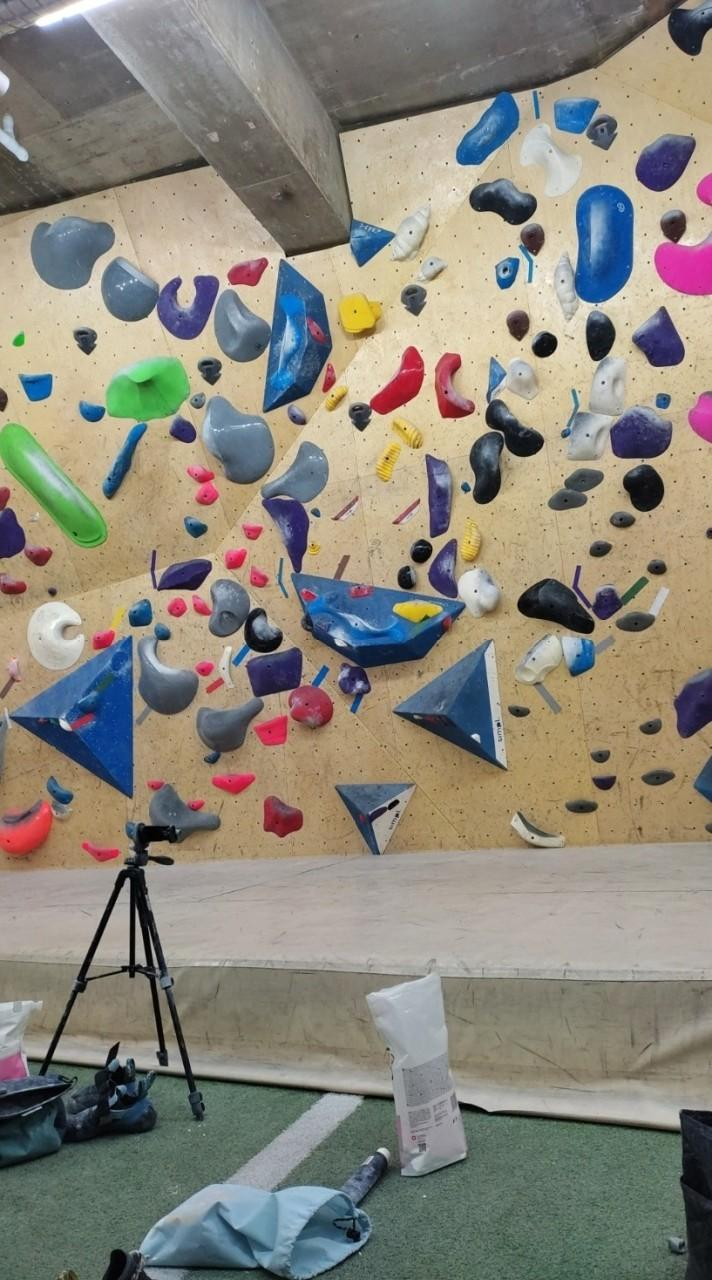hold: (0, 425, 106, 547), (576, 185, 632, 302), (202, 395, 274, 484), (31, 215, 115, 290), (105, 356, 190, 422), (456, 92, 519, 165), (138, 635, 196, 714), (305, 589, 400, 636), (261, 440, 328, 504), (520, 124, 580, 195), (146, 784, 219, 841), (517, 580, 593, 634), (214, 290, 270, 362), (156, 275, 219, 339), (369, 345, 424, 416), (28, 601, 84, 670), (197, 698, 263, 755), (101, 258, 157, 322), (262, 499, 309, 572), (636, 135, 695, 191), (103, 424, 146, 499), (486, 400, 542, 457), (469, 178, 536, 225), (611, 407, 671, 458), (0, 800, 53, 856), (633, 307, 682, 366), (435, 350, 476, 419), (247, 647, 302, 697), (675, 669, 711, 738), (275, 294, 304, 379), (209, 579, 250, 638), (470, 432, 503, 504), (515, 634, 563, 683), (566, 412, 614, 459), (390, 203, 429, 260), (589, 357, 626, 416), (349, 221, 395, 268), (426, 455, 452, 537), (458, 567, 499, 617), (291, 687, 336, 729), (339, 294, 382, 336), (512, 812, 563, 847), (624, 466, 663, 511), (259, 795, 305, 833), (244, 608, 282, 653), (554, 254, 579, 322), (158, 559, 211, 590), (554, 98, 599, 134), (428, 539, 455, 598), (501, 358, 537, 399), (587, 311, 614, 360), (561, 637, 595, 675), (0, 508, 25, 558), (393, 601, 441, 624), (338, 664, 370, 698), (229, 257, 268, 284), (586, 114, 616, 149), (592, 586, 622, 619), (376, 443, 401, 482), (392, 419, 423, 449), (460, 519, 481, 563), (565, 468, 603, 492), (212, 773, 255, 794), (255, 716, 287, 744), (660, 210, 686, 243), (616, 611, 655, 632), (45, 774, 72, 804), (20, 374, 51, 400), (400, 284, 426, 315), (488, 357, 505, 403), (416, 256, 446, 282), (549, 489, 586, 510), (520, 224, 544, 256), (82, 842, 120, 862), (496, 257, 519, 289), (169, 416, 195, 443), (506, 310, 529, 340), (331, 497, 356, 523), (197, 357, 221, 384), (348, 403, 371, 431), (394, 501, 420, 525), (129, 599, 152, 626), (73, 327, 96, 354), (325, 383, 347, 411), (533, 332, 557, 357), (307, 316, 326, 345), (0, 574, 27, 594), (25, 547, 52, 566), (642, 769, 674, 785), (411, 539, 432, 563), (79, 402, 104, 422), (219, 646, 231, 687), (196, 483, 218, 505), (92, 629, 115, 650), (78, 689, 98, 713), (225, 548, 247, 569), (565, 799, 597, 813), (184, 517, 206, 537), (398, 565, 415, 590), (187, 467, 213, 483), (346, 584, 375, 598), (51, 799, 71, 819), (249, 566, 268, 587), (610, 511, 634, 527), (167, 598, 187, 617), (323, 365, 337, 392), (193, 595, 210, 617), (289, 404, 306, 425), (640, 718, 661, 735), (589, 541, 611, 557), (593, 775, 615, 790), (648, 559, 666, 575), (300, 587, 318, 602), (243, 525, 262, 539), (590, 749, 610, 762), (154, 624, 170, 640), (509, 705, 529, 717), (189, 393, 204, 409), (0, 486, 10, 510), (8, 657, 18, 681), (195, 662, 212, 676), (146, 779, 165, 791), (59, 718, 74, 733), (656, 393, 670, 409), (440, 613, 454, 629), (125, 822, 137, 839), (12, 332, 25, 347), (189, 799, 204, 810), (204, 752, 219, 762), (469, 733, 480, 746), (334, 639, 348, 649), (461, 479, 470, 494), (310, 543, 318, 554), (37, 718, 48, 726), (561, 428, 570, 437), (311, 508, 320, 517)
volume: (11, 637, 132, 796), (293, 575, 464, 668), (393, 641, 507, 767), (264, 259, 334, 412), (337, 783, 415, 854)
